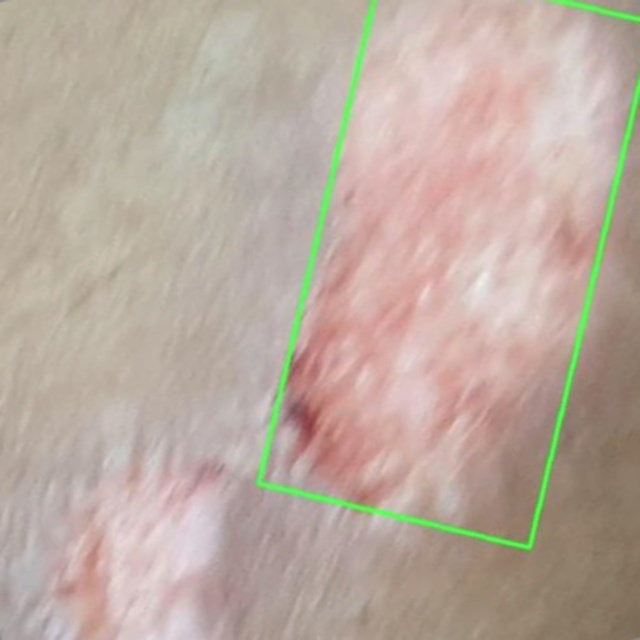Eczema: (259, 0, 639, 548)
